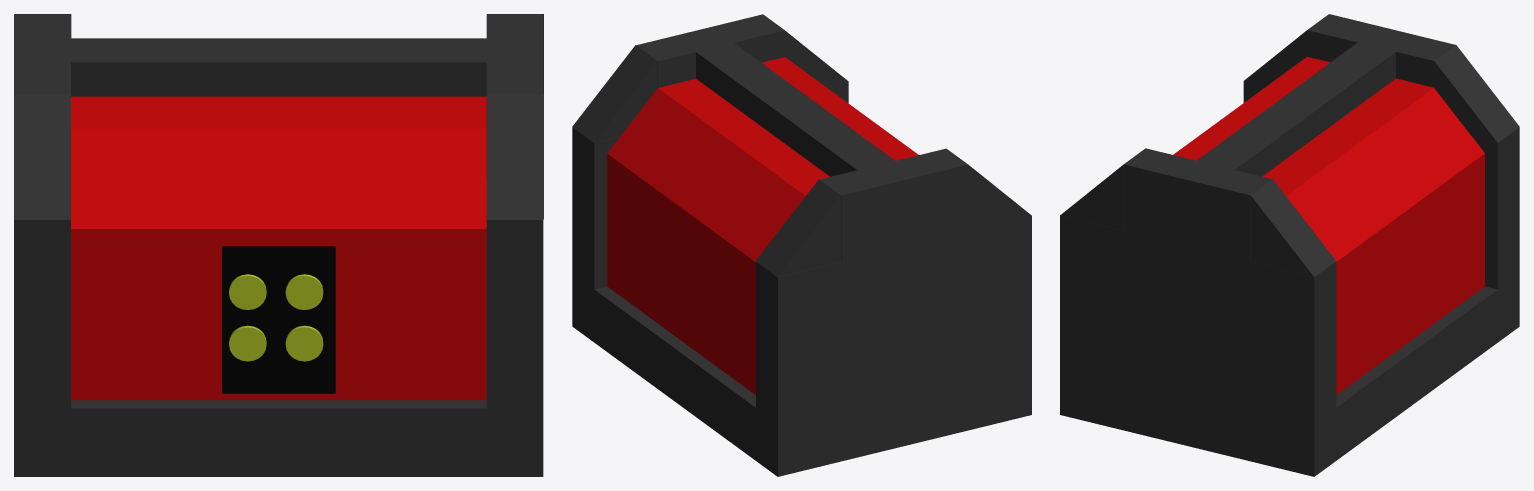
File: crate.obj
The picture shows the model from 3 angles, left to right: view 1: azimuth 30°, elevation 25°; view 2: azimuth 150°, elevation 25°; view 3: azimuth 270°, elevation 25°; orthographic projection. The views are drawn at different scales.
Visible parts, largest first — view 1: Part.011, Wedge.005, Part.012, Part.005, Part.007, Part.010, Part.008, Part.004, Wedge.002, Wedge.003, Part.006, Part.009 (+4 smaller); view 2: Part.008, Part.011, Wedge.004, Part.009, Part.012, Part.005, Part.010, Part.007, Wedge, Part.006, Wedge.001, Wedge.002 (+1 smaller); view 3: Part.007, Part.011, Wedge.004, Part.006, Part.012, Part.005, Part.010, Part.008, Wedge.001, Part.009, Wedge, Wedge.003 (+1 smaller).
Part boxes in pixels (<box>): Part.011: <box>71,229,486,400</box>; Wedge.005: <box>71,128,486,228</box>; Part.012: <box>52,400,486,476</box>; Part.005: <box>71,38,486,96</box>; Part.007: <box>486,180,543,476</box>; Part.010: <box>71,96,486,128</box>; Part.008: <box>14,220,70,476</box>; Part.004: <box>222,246,335,393</box>; Wedge.002: <box>14,94,70,219</box>; Wedge.003: <box>487,94,543,219</box>; Part.006: <box>486,14,543,179</box>; Part.009: <box>14,14,70,94</box>; Part.008: <box>756,215,1031,476</box>; Part.011: <box>607,154,755,394</box>; Wedge.004: <box>607,88,805,261</box>; Part.009: <box>819,148,968,261</box>; Part.012: <box>587,284,755,460</box>; Part.005: <box>696,43,894,176</box>; Part.010: <box>658,57,918,195</box>; Part.007: <box>572,81,848,336</box>; Wedge: <box>755,179,840,277</box>; Part.006: <box>636,14,784,87</box>; Wedge.001: <box>572,45,657,142</box>; Wedge.002: <box>968,165,1031,230</box>; Part.007: <box>1060,215,1336,476</box>; Part.011: <box>1336,153,1484,394</box>; Wedge.004: <box>1286,88,1484,261</box>; Part.006: <box>1124,148,1272,261</box>; Part.012: <box>1329,286,1497,465</box>; Part.005: <box>1197,42,1395,176</box>; Part.010: <box>1173,56,1433,195</box>; Part.008: <box>1243,81,1519,342</box>; Wedge.001: <box>1251,179,1335,277</box>; Part.009: <box>1307,14,1455,87</box>; Wedge: <box>1434,45,1519,142</box>; Wedge.003: <box>1060,148,1145,230</box>.
Bounding box in the file's own units: 8.57 × 5 × 7.83.
